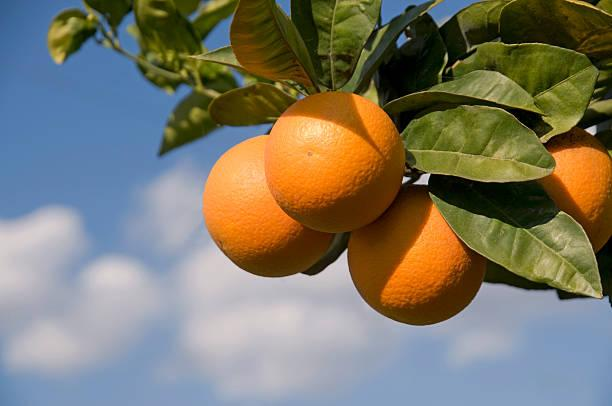orange: (351, 177, 534, 337), (200, 132, 329, 266), (273, 102, 396, 218), (539, 130, 612, 243)
